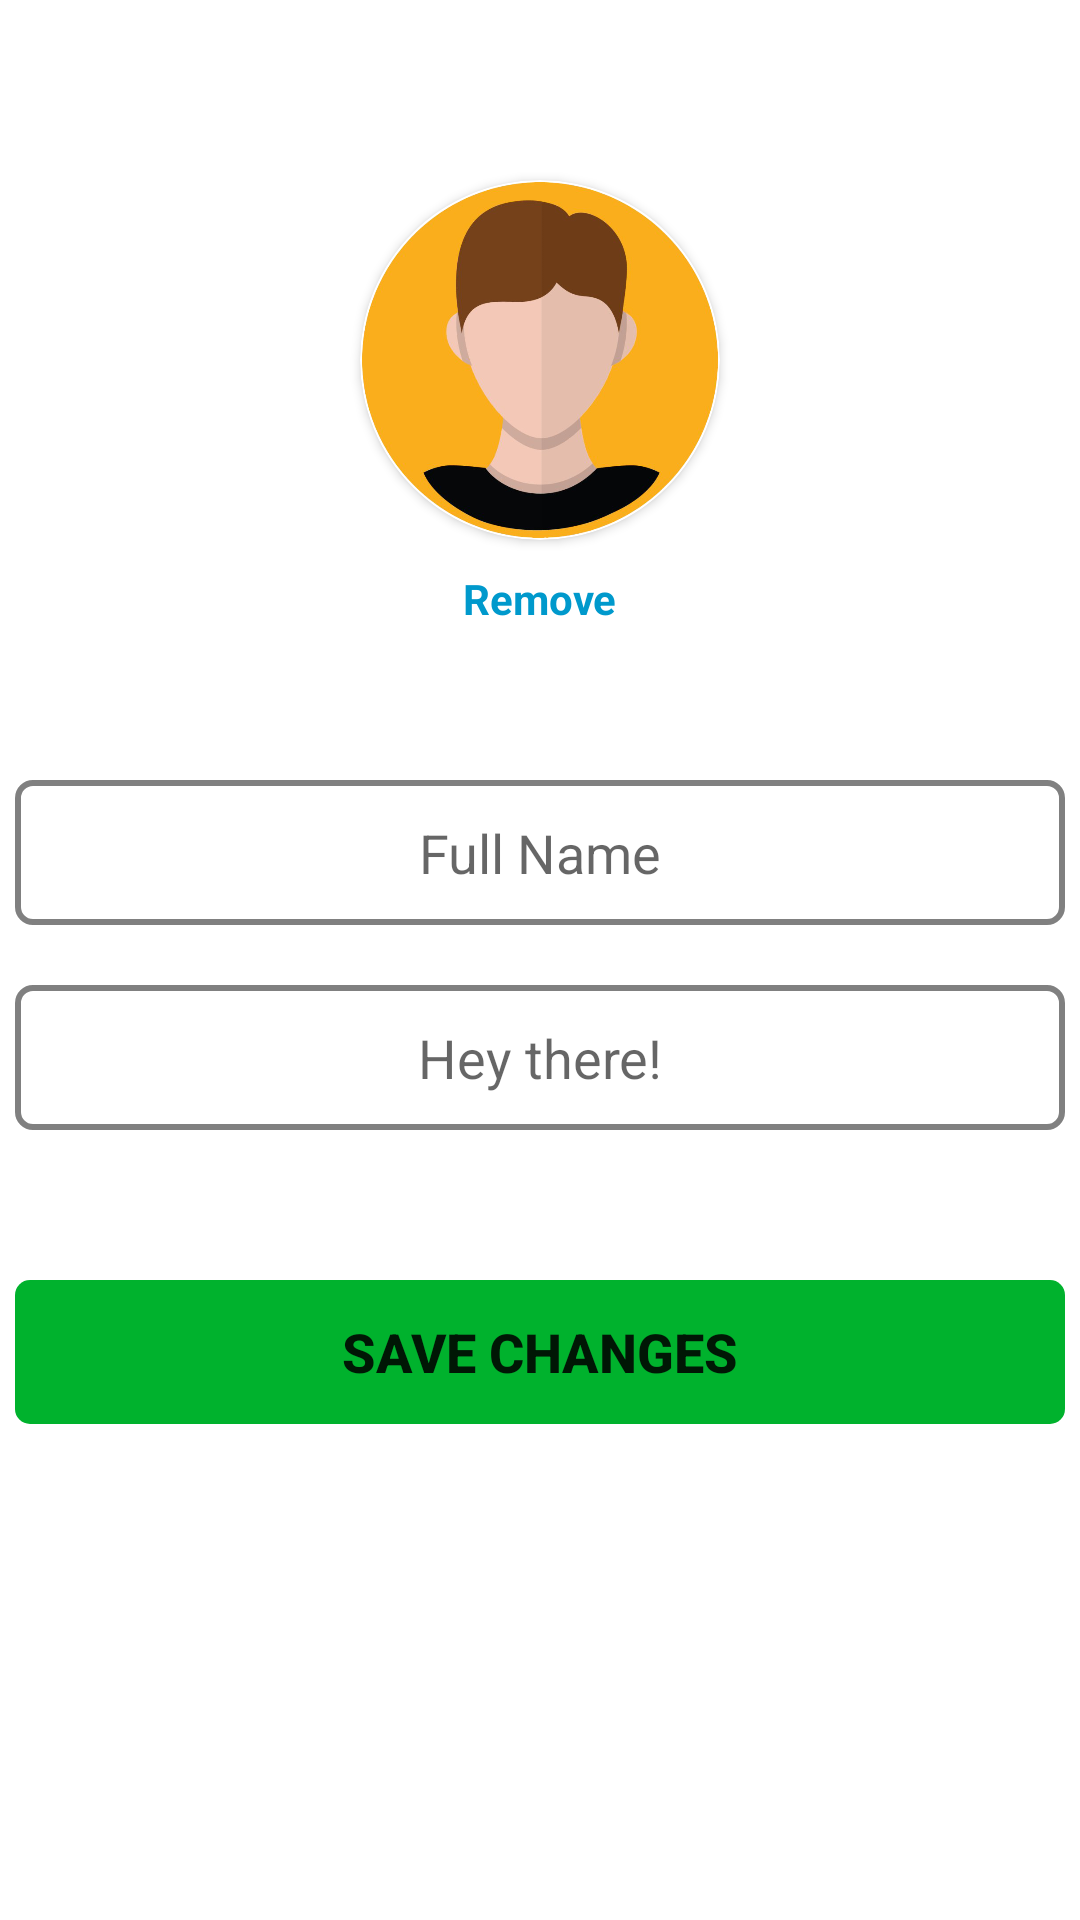

Named icons in this screenshot (1080px x 1920px) and their bounding boxes, (x1, y1, x2, y2):
profileavatar: (360, 182, 720, 540)
